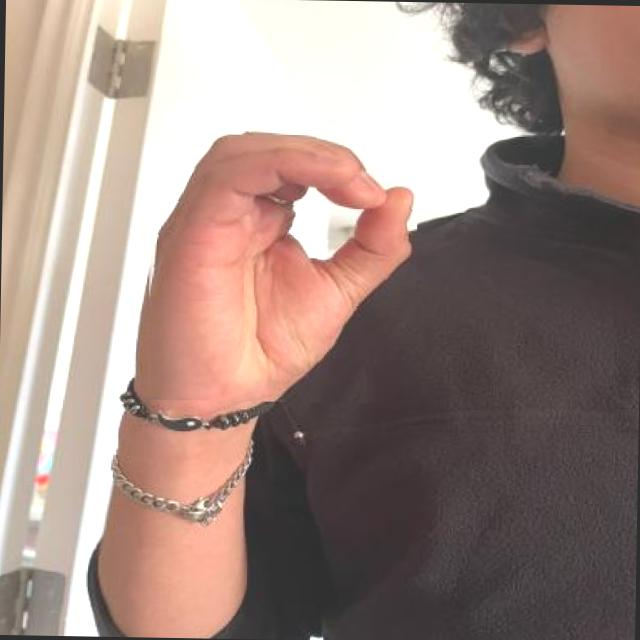O: (142, 115, 418, 404)
